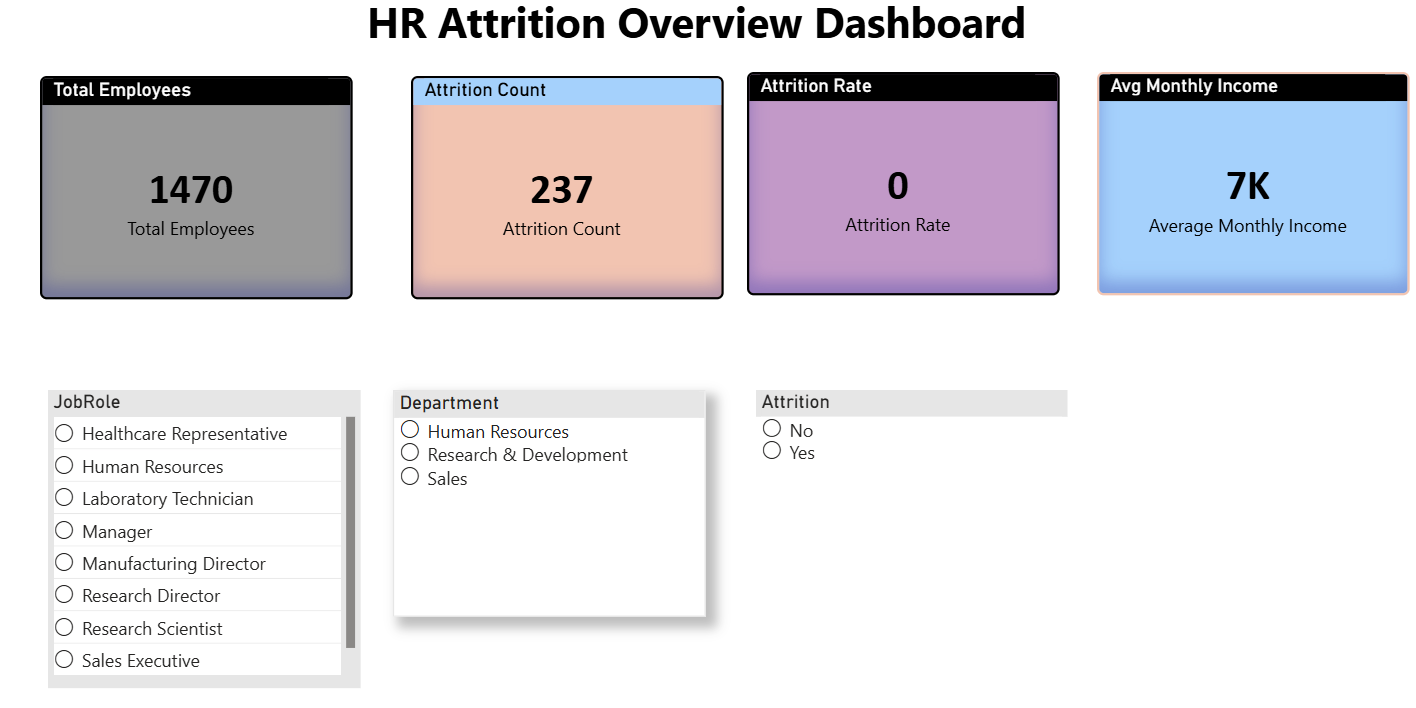

What the dashboard file says about the page in this screenshot:
{"tool":"powerbi","page":{"name":"Executive Hr Overview","canvas":[1280,720],"ordinal":0},"visuals":[{"type":"textbox","box":[9.9,0,1243.9,59.1],"z":0},{"type":"card","title":"Total Employees","fields":{"Values":["WA_Fn-UseC_-HR-Employee-Attrition.Total Employees"]},"box":[43.8,78.8,280,200],"z":1000},{"type":"card","title":"Attrition Count","fields":{"Values":["WA_Fn-UseC_-HR-Employee-Attrition.Attrition Count"]},"box":[376.4,78.8,280,200],"z":2000},{"type":"card","title":"Attrition Rate","fields":{"Values":["WA_Fn-UseC_-HR-Employee-Attrition.Attrition Rate"]},"box":[677,74.9,280,200],"z":3000},{"type":"card","title":"Avg Monthly Income","fields":{"Values":["WA_Fn-UseC_-HR-Employee-Attrition.Average Monthly Income"]},"box":[990.2,74.9,280.1,200.4],"z":4000},{"type":"listSlicer","fields":{"Values":["WA_Fn-UseC_-HR-Employee-Attrition.Department"]},"box":[360,360,280.3,203.3],"z":5000},{"type":"listSlicer","fields":{"Values":["WA_Fn-UseC_-HR-Employee-Attrition.JobRole"]},"box":[51,360,280.3,266.9],"z":6000},{"type":"listSlicer","fields":{"Values":["WA_Fn-UseC_-HR-Employee-Attrition.Attrition"]},"box":[685.1,360,279.4,193.4],"z":7000}]}

Visuals, with their boxes on the page's 1280x720 design canvas (x1, y1, x2, y2). These are canvas units, not pixel positions in the 1416x708 screenshot, which may show the page scaled, cropped or inside an application window:
textbox: box=[10, 0, 1254, 59]
"Total Employees" card: box=[44, 79, 324, 279]
"Attrition Count" card: box=[376, 79, 656, 279]
"Attrition Rate" card: box=[677, 75, 957, 275]
"Avg Monthly Income" card: box=[990, 75, 1270, 275]
listSlicer - WA_Fn-UseC_-HR-Employee-Attrition.Department: box=[360, 360, 640, 563]
listSlicer - WA_Fn-UseC_-HR-Employee-Attrition.JobRole: box=[51, 360, 331, 627]
listSlicer - WA_Fn-UseC_-HR-Employee-Attrition.Attrition: box=[685, 360, 964, 553]
